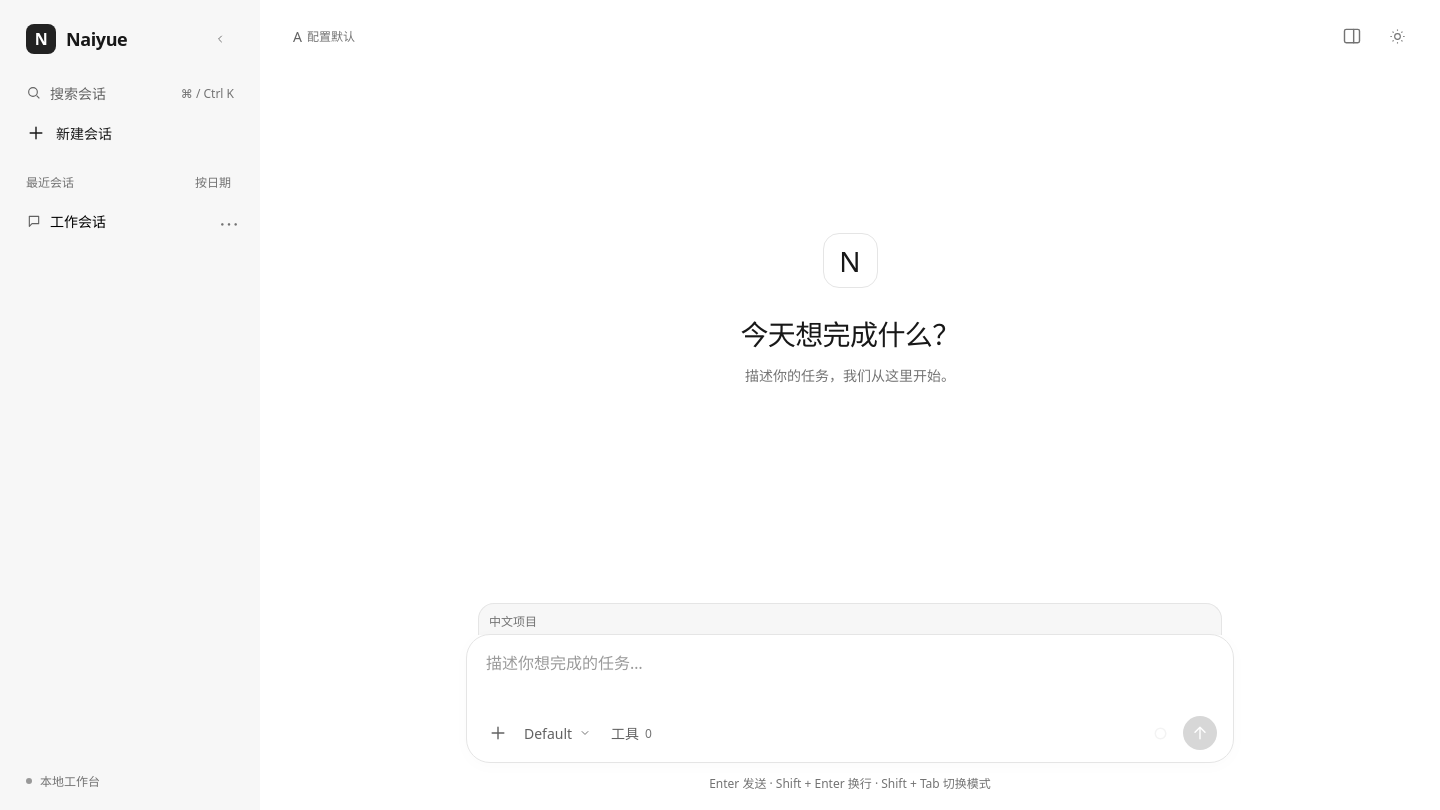
displays the selected session path /other/session-project instead of service identity
The image size is (1440, 810).
Check: the text "中文项目" is shown, box [489,612,537,630]
Click the button with aria-label "工作会话 A". click: (130, 221)
box: [14,202,246,240]
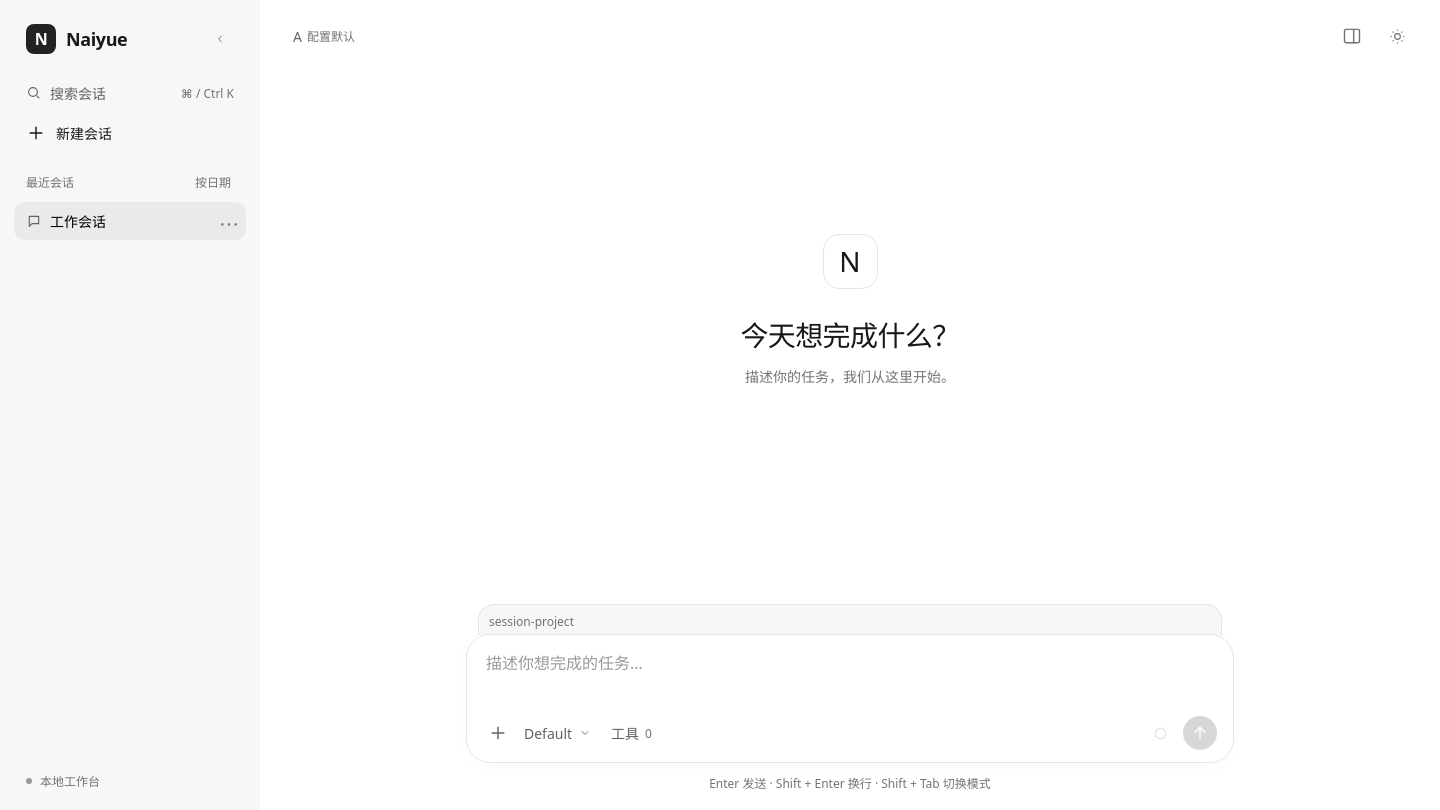
Check: the text titled "/other/session-project" is shown, box [489,613,574,630]
Check: the text "中文项目" is gone
